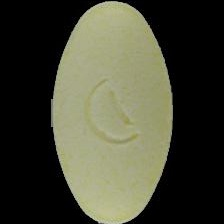42291-327: (0, 0, 224, 224)
